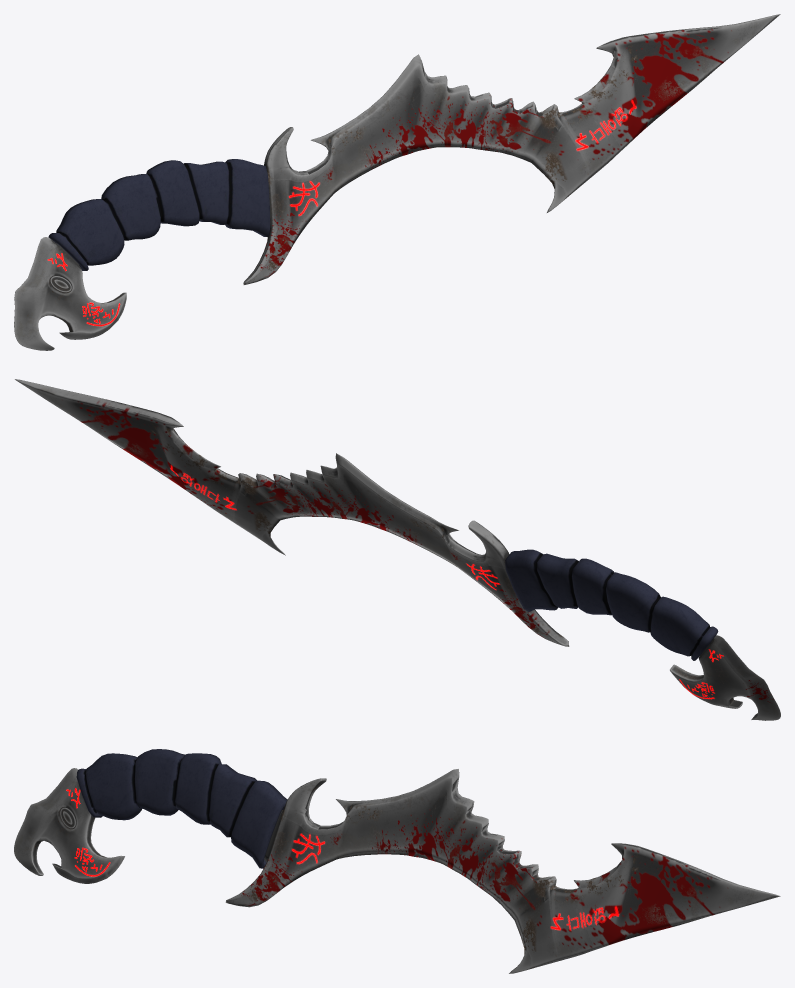
The picture shows the model from 3 angles, top to bottom: view 1: azimuth 30°, elevation 25°; view 2: azimuth 150°, elevation 25°; view 3: azimuth 330°, elevation 25°; orthographic projection.
Visible parts, largest first — view 1: Blade, Handle, Talon; view 2: Blade, Handle, Talon; view 3: Blade, Handle, Talon.
Part boxes in pixels (box(x1,y1,x2,y2)): Blade: box(243, 14, 780, 284); Handle: box(48, 159, 270, 270); Talon: box(14, 237, 126, 350); Blade: box(15, 379, 569, 646); Handle: box(505, 549, 718, 660); Talon: box(670, 635, 780, 720); Blade: box(225, 769, 780, 973); Handle: box(76, 749, 287, 868); Talon: box(14, 768, 124, 883).
Size of the model in its own units: 61.64 by 14.27 by 6.39.
Materials: 2 (2 with a texture image).
